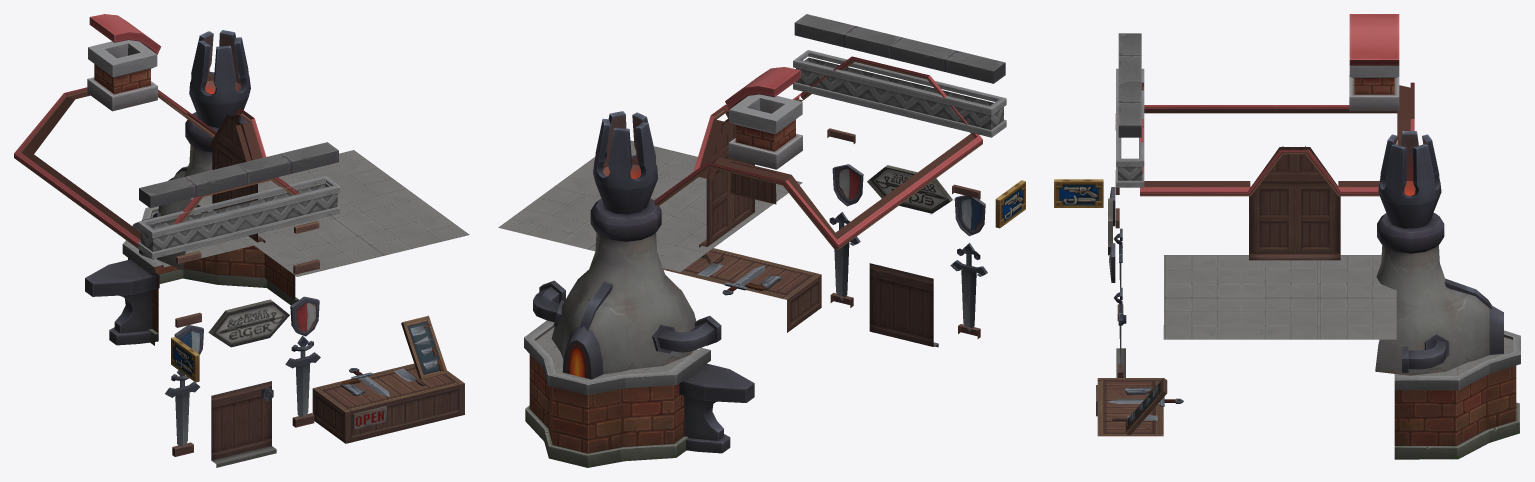
File: scene_luoliante_wqd_02.FBX
The picture shows the model from 3 angles, left to right: view 1: azimuth 30°, elevation 25°; view 2: azimuth 150°, elevation 25°; view 3: azimuth 270°, elevation 25°; orthographic projection. The views are drawn at different scales.
Parts seen in each view (by area): view 1: scene_luoliante_wqd_02; view 2: scene_luoliante_wqd_02; view 3: scene_luoliante_wqd_02.
Part boxes in pixels (left/top/right/bottom): scene_luoliante_wqd_02: left=14, top=14, right=469, bottom=467; scene_luoliante_wqd_02: left=498, top=14, right=1025, bottom=467; scene_luoliante_wqd_02: left=1054, top=14, right=1520, bottom=459.
Bounding box in the file's own units: 568 × 546 × 668.
